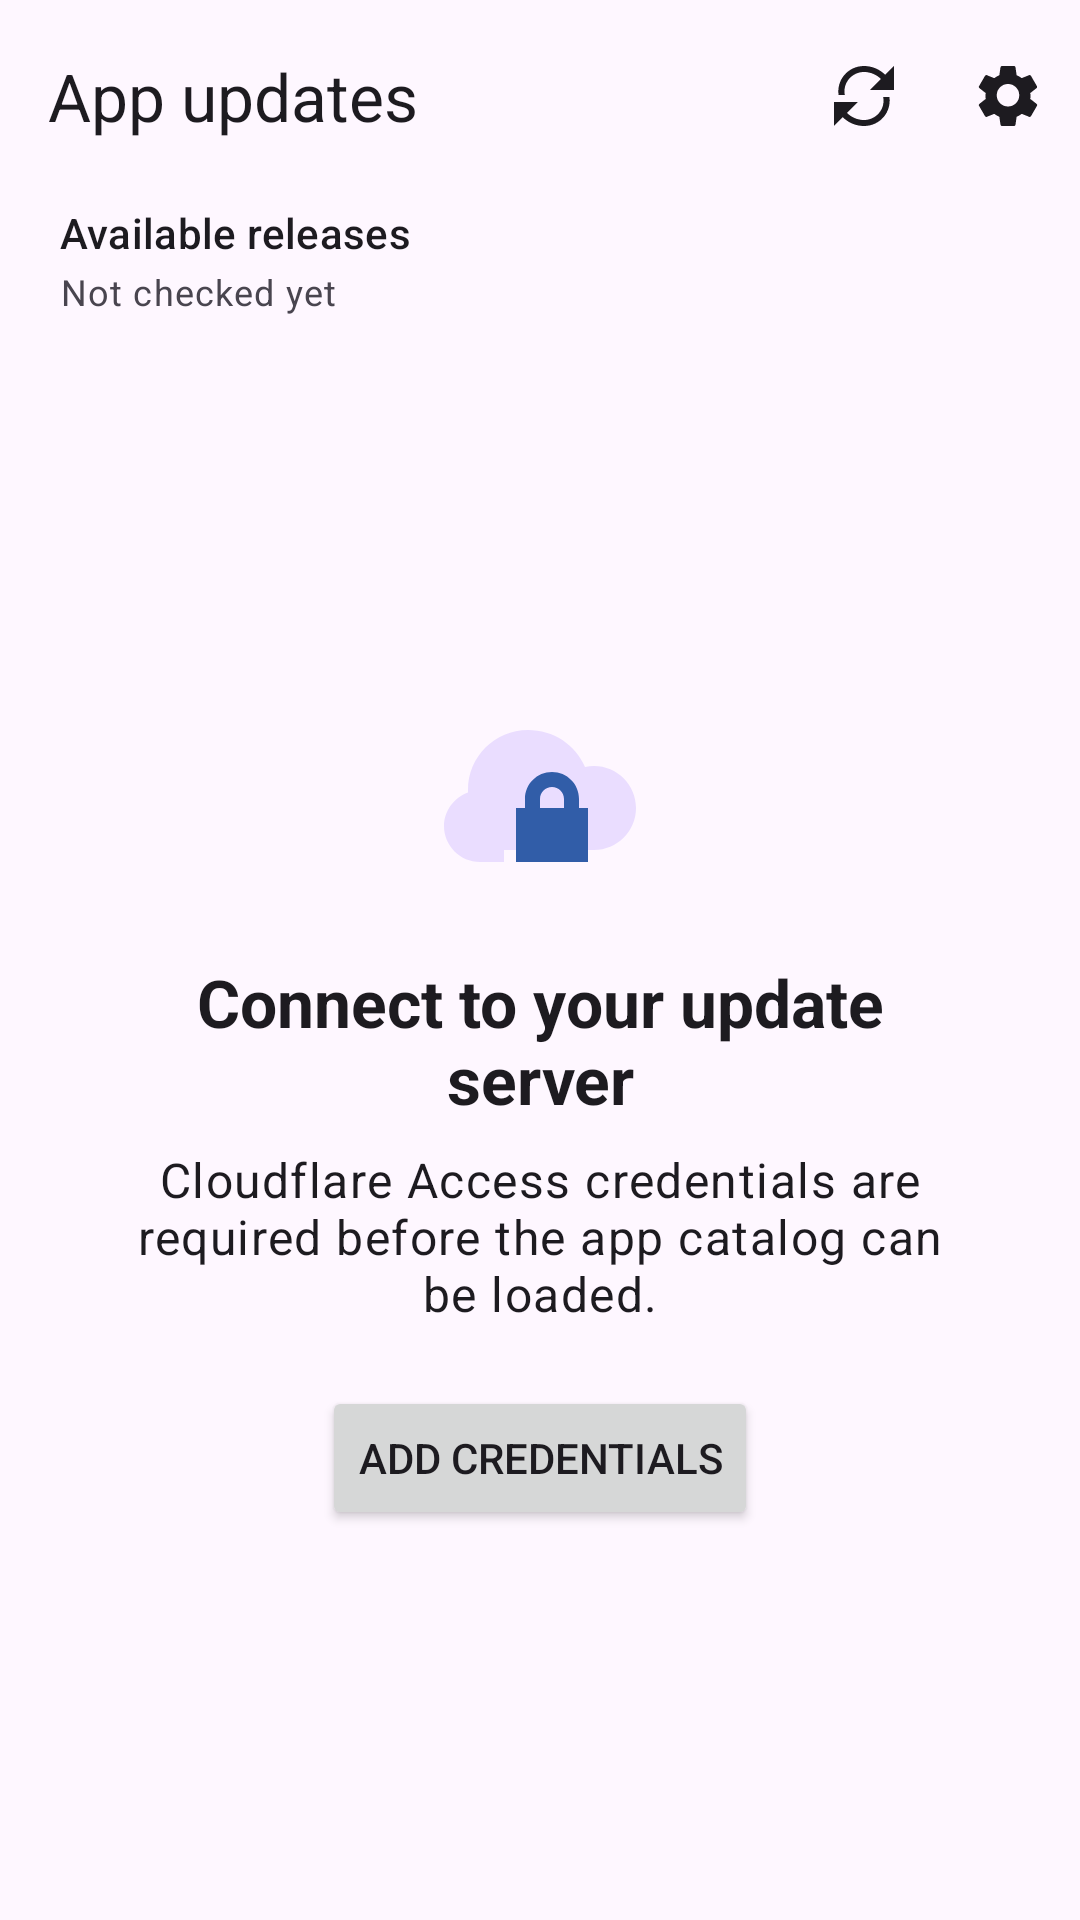

Where icons sit on this 1080px×1920px app screen, as box(x1, y1, x2, y2):
cloud lock: box(444, 730, 636, 862)
